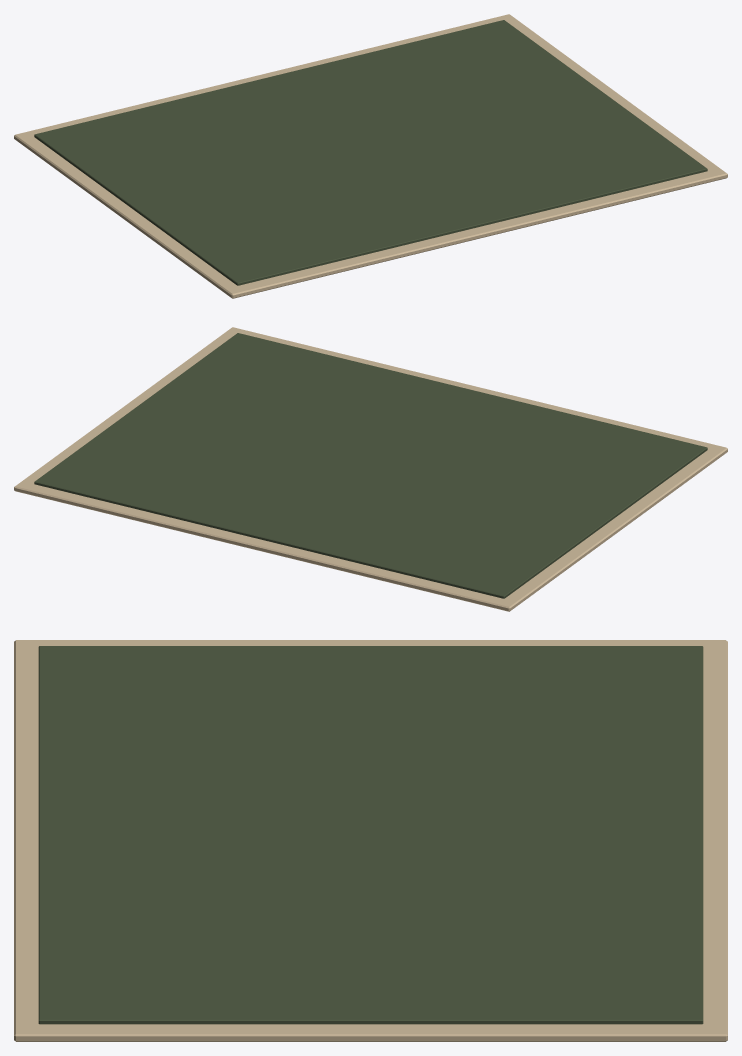
The model's file is room_rug.glb.
3 views of the same model, one above another, from view 1: azimuth 30°, elevation 25°; view 2: azimuth 150°, elevation 25°; view 3: azimuth 270°, elevation 25° (orthographic). The views are drawn at different scales.
Parts seen in each view (by area): view 1: Field, Border; view 2: Field, Border; view 3: Field, Border.
Part boxes in pixels (x1,y1,x2,y2): Field: [34, 20, 707, 285]; Border: [14, 14, 727, 298]; Field: [34, 333, 707, 598]; Border: [14, 327, 727, 611]; Field: [38, 646, 703, 1024]; Border: [14, 640, 727, 1041].
Bounding box in the file's own units: 1.9 × 0.0275 × 1.45.
